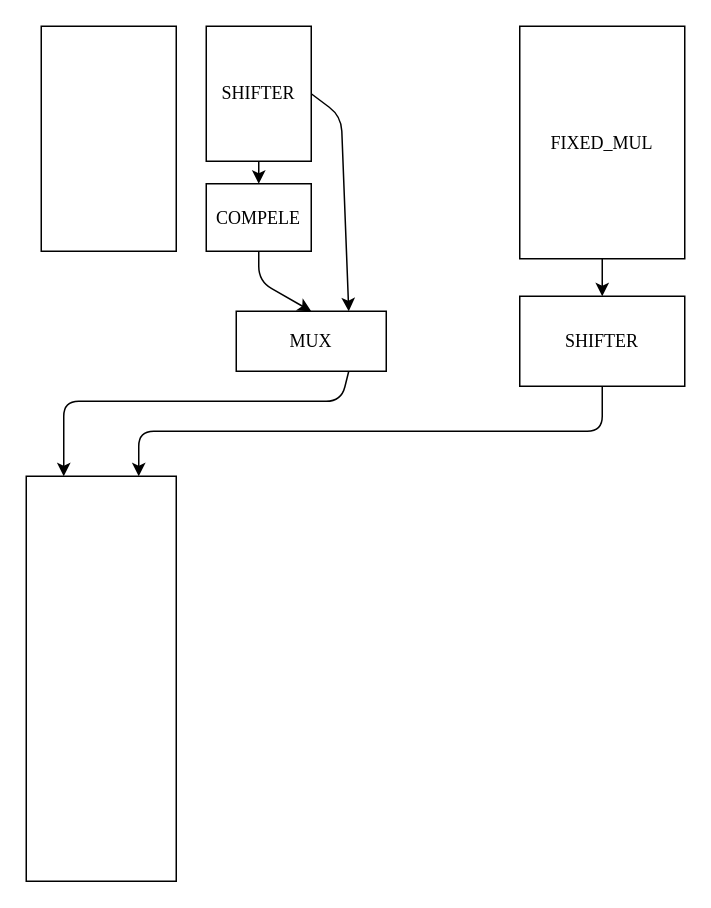
This 711x908 diagram has some shape labels left out. Each missing label, with the centre of its shape:
EXP_CONTROL: the point at 108,138
LZA: the point at 100,678
